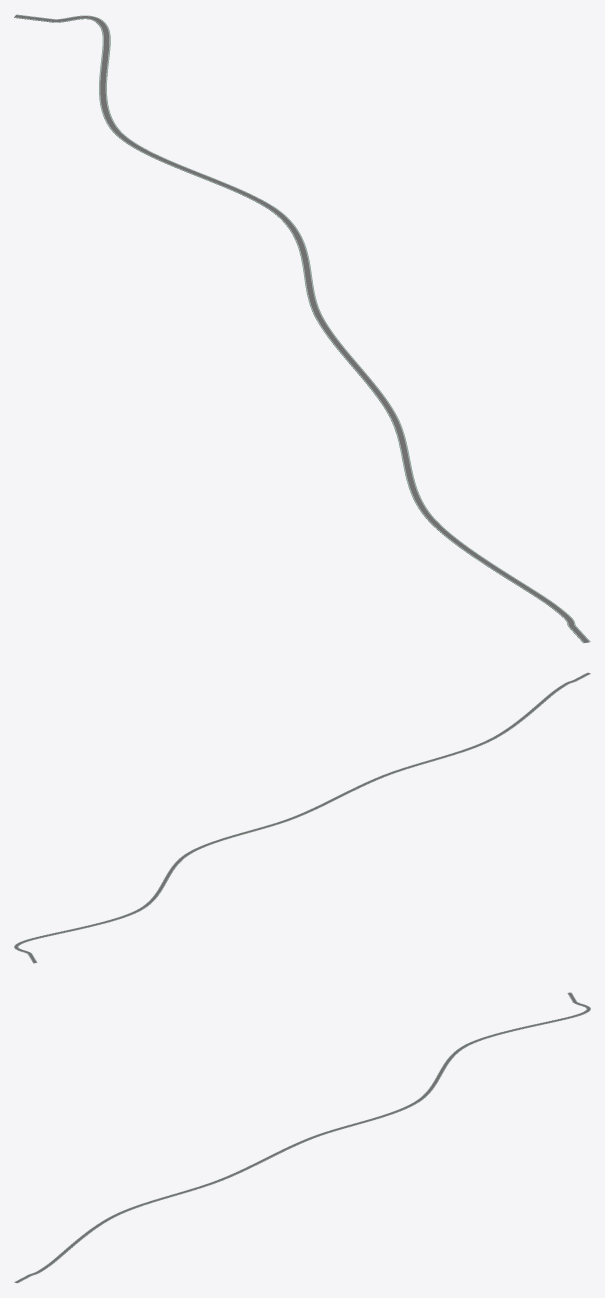
Rendered from road_roam_cross_snow.glb.
3 views of the same model, one above another, from view 1: azimuth 30°, elevation 25°; view 2: azimuth 150°, elevation 25°; view 3: azimuth 330°, elevation 25° (orthographic). The views are drawn at different scales.
Parts seen in each view (by area): view 1: road; view 2: road; view 3: road.
Boxes of the visible parts, bbox=[...] form: road: bbox=[14, 14, 590, 643]; road: bbox=[14, 672, 590, 963]; road: bbox=[14, 992, 590, 1283].
Bounding box in the file's own units: 484 × 0.32 × 2379.
